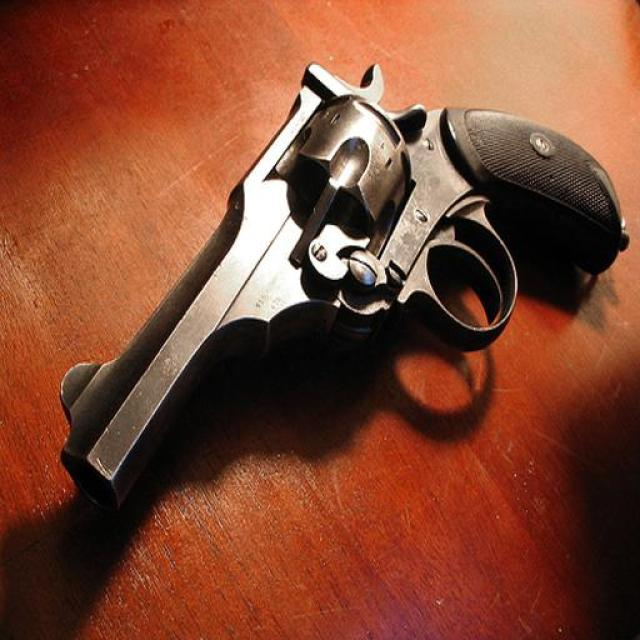pistol: (58, 59, 624, 524)
